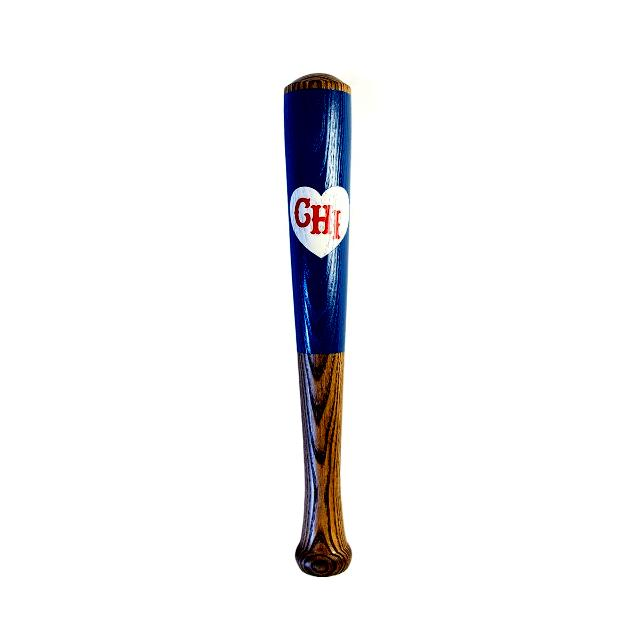baseball bat: (220, 39, 436, 589)
